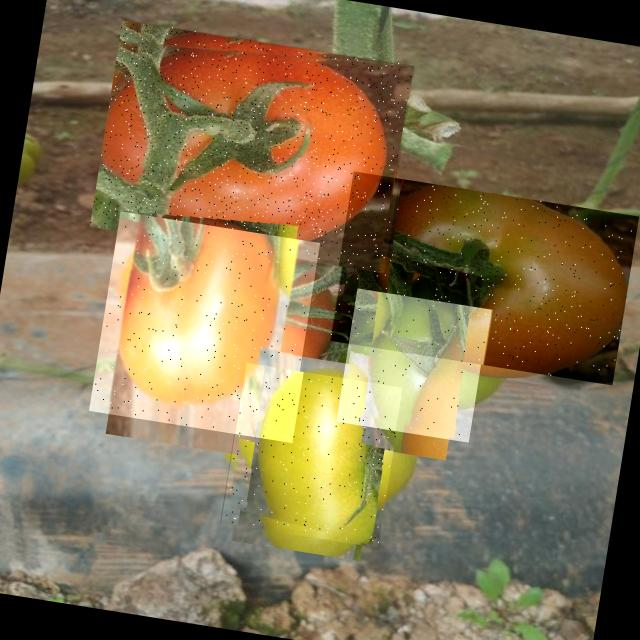Ripe Tomato: (90, 20, 415, 274), (89, 212, 320, 442)
Unripe Tomato: (328, 172, 638, 386), (218, 362, 402, 548), (336, 288, 490, 442)
